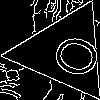O: (39, 27, 100, 82)
